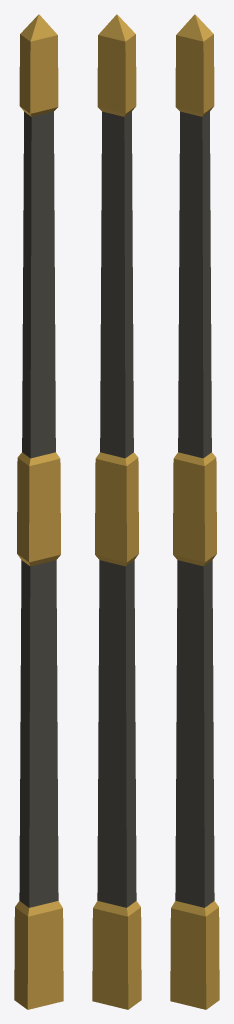
Rendered from Rapier_1_Sheath.fbx.
3 views of the same model, side by side, from view 1: azimuth 30°, elevation 25°; view 2: azimuth 150°, elevation 25°; view 3: azimuth 330°, elevation 25° (orthographic).
Visible parts, largest first — view 1: Rapier_1_Sheath; view 2: Rapier_1_Sheath; view 3: Rapier_1_Sheath.
Part boxes in pixels (<box>): Rapier_1_Sheath: <box>14,14,63,1009</box>; Rapier_1_Sheath: <box>92,14,141,1009</box>; Rapier_1_Sheath: <box>170,14,219,1009</box>.
Size of the model in its own units: 4.3 by 113 by 2.79.
